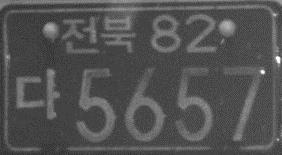2: (183, 11, 217, 55)
5: (73, 65, 117, 143), (173, 65, 213, 145)
6: (123, 65, 165, 145)
7: (218, 65, 263, 143)
8: (150, 12, 181, 53)
다: (14, 65, 61, 121)
전북_O: (60, 15, 136, 55)
